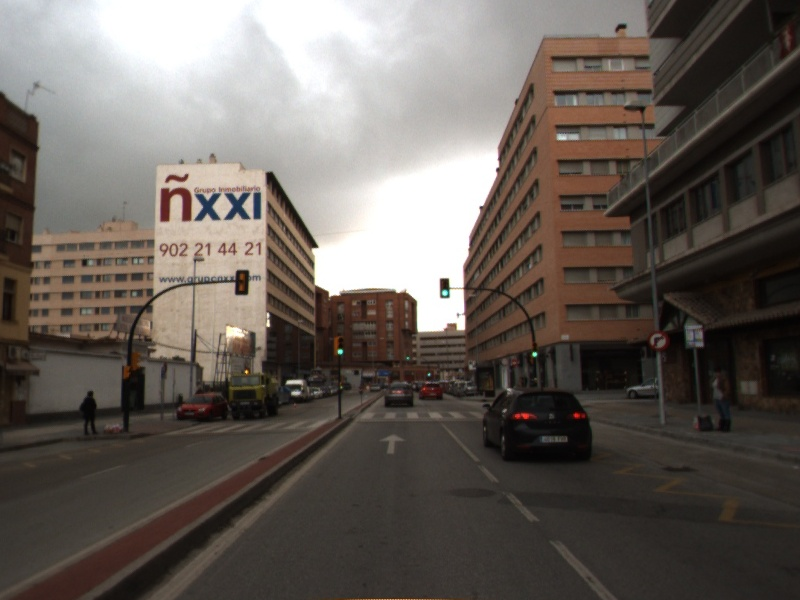STRAIGHT: (377, 431, 410, 456)
